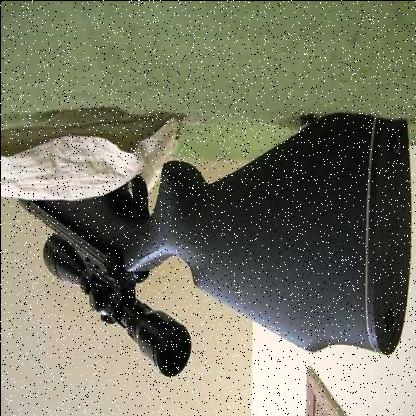rifle: (13, 110, 406, 393)
